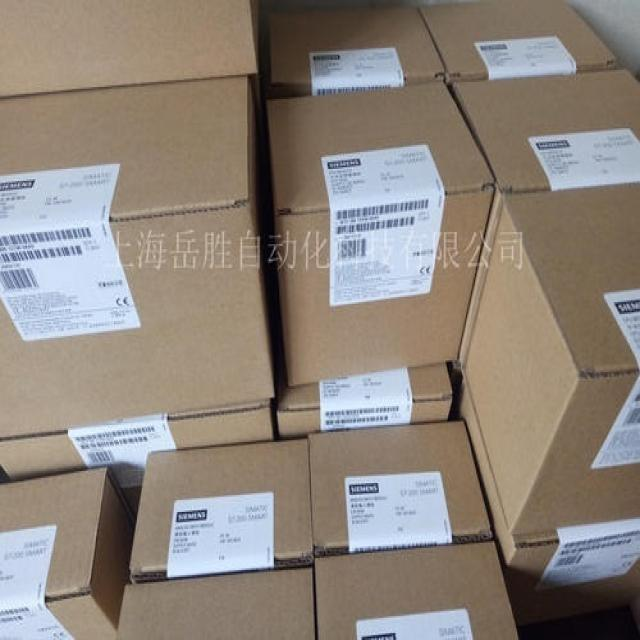box: (0, 76, 277, 437), (268, 81, 495, 384), (463, 178, 638, 533), (451, 370, 639, 626), (0, 395, 275, 522), (130, 438, 315, 581), (308, 419, 494, 557), (1, 1, 262, 97), (451, 66, 639, 192), (0, 466, 137, 638), (313, 540, 518, 638), (265, 1, 447, 96), (417, 1, 618, 80), (115, 563, 316, 638), (275, 360, 454, 438), (457, 185, 508, 368)
